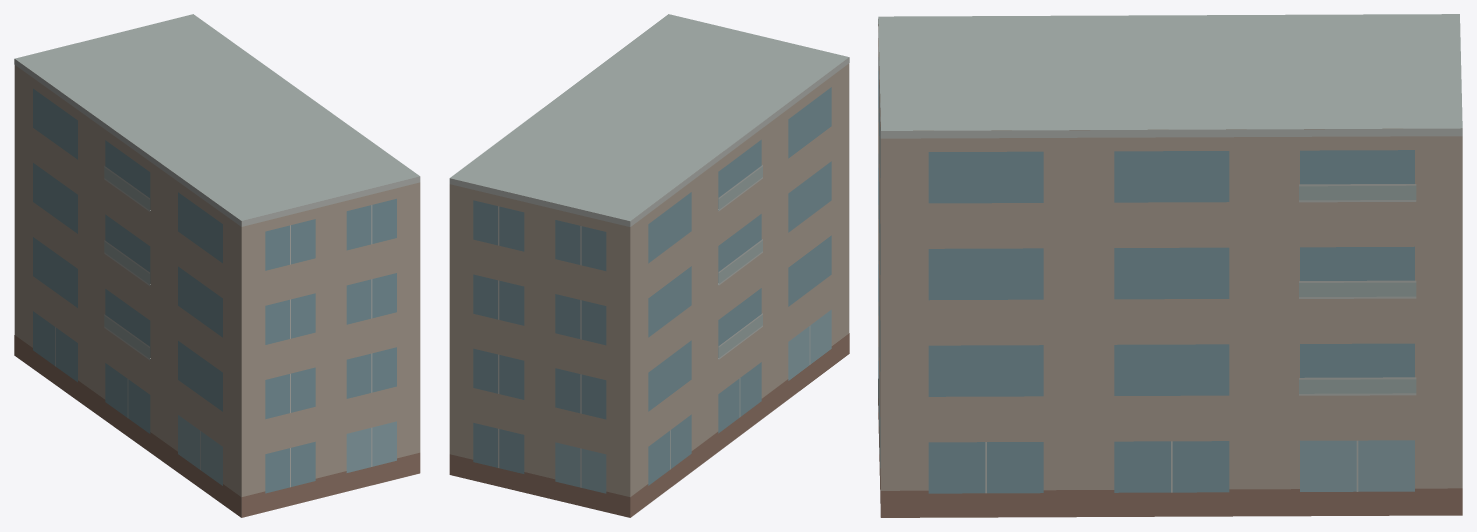
Rendered from residential-9ce004b1-e940-4e9e-91a9-f9fea9ee7eae.glb.
3 renders of one model, left to right at view 1: azimuth 30°, elevation 25°; view 2: azimuth 150°, elevation 25°; view 3: azimuth 270°, elevation 25°, orthographic. The views are drawn at different scales.
Parts seen in each view (by area): view 1: residential-9ce004b1-e940-4e9e-91a9-f9fea9ee7eae.tmp; view 2: residential-9ce004b1-e940-4e9e-91a9-f9fea9ee7eae.tmp; view 3: residential-9ce004b1-e940-4e9e-91a9-f9fea9ee7eae.tmp.
Part boxes in pixels (x1,y1,x2,y2): residential-9ce004b1-e940-4e9e-91a9-f9fea9ee7eae.tmp: [14, 14, 420, 517]; residential-9ce004b1-e940-4e9e-91a9-f9fea9ee7eae.tmp: [449, 14, 849, 517]; residential-9ce004b1-e940-4e9e-91a9-f9fea9ee7eae.tmp: [878, 14, 1462, 517].
Bounding box in the file's own units: 7.91 × 12.2 × 16.71.
